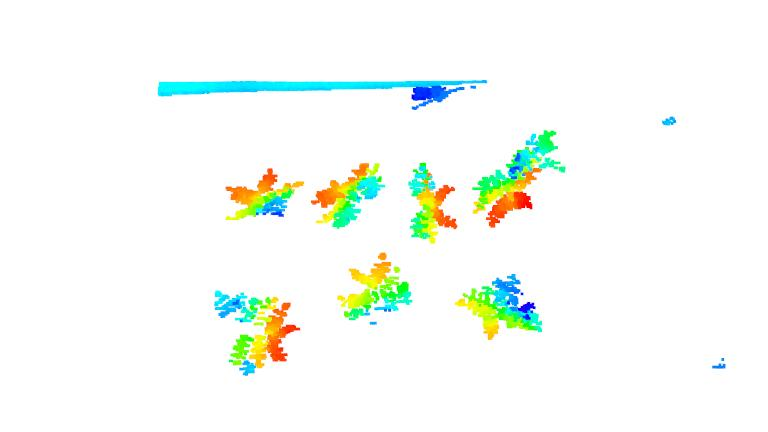chickpea: (467, 126, 573, 227), (213, 286, 303, 378), (454, 272, 546, 341), (334, 249, 415, 327), (311, 157, 389, 233), (220, 164, 306, 222), (403, 156, 458, 242)
